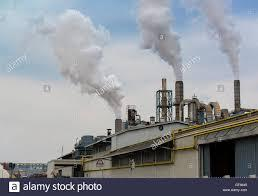smoke: (32, 9, 126, 125), (133, 0, 187, 83), (191, 0, 245, 82)
